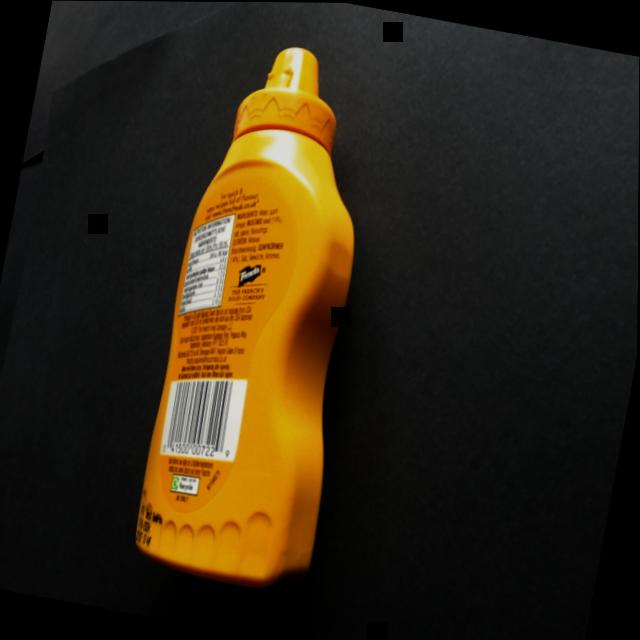Mustard: (111, 23, 423, 608)
